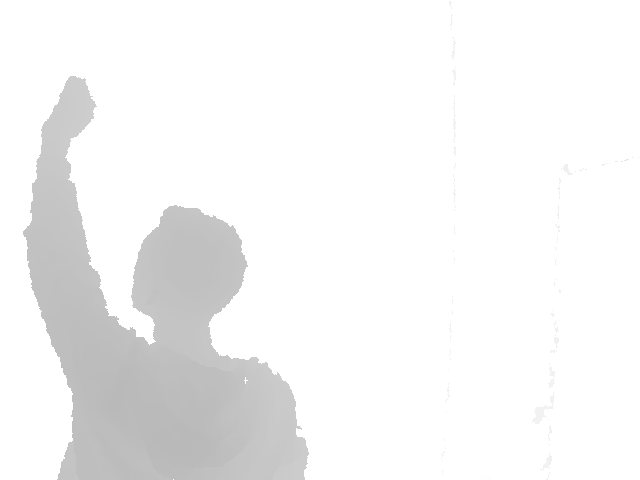hand: (39, 74, 98, 145)
head: (130, 204, 246, 348)
person: (21, 74, 311, 480)
